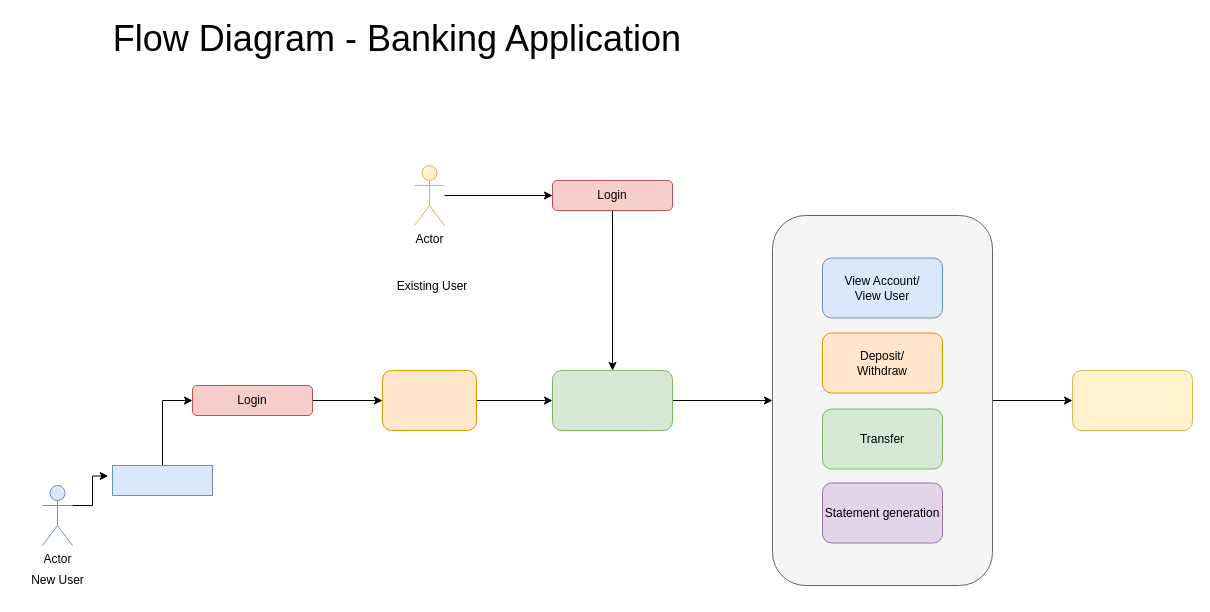
This 1210x612 diagram has some shape labels left out. Each missing label, with the centre of its shape:
Home: point 612,400
Logout: point 1132,400
Register: point 162,480
User Details: point 429,400
